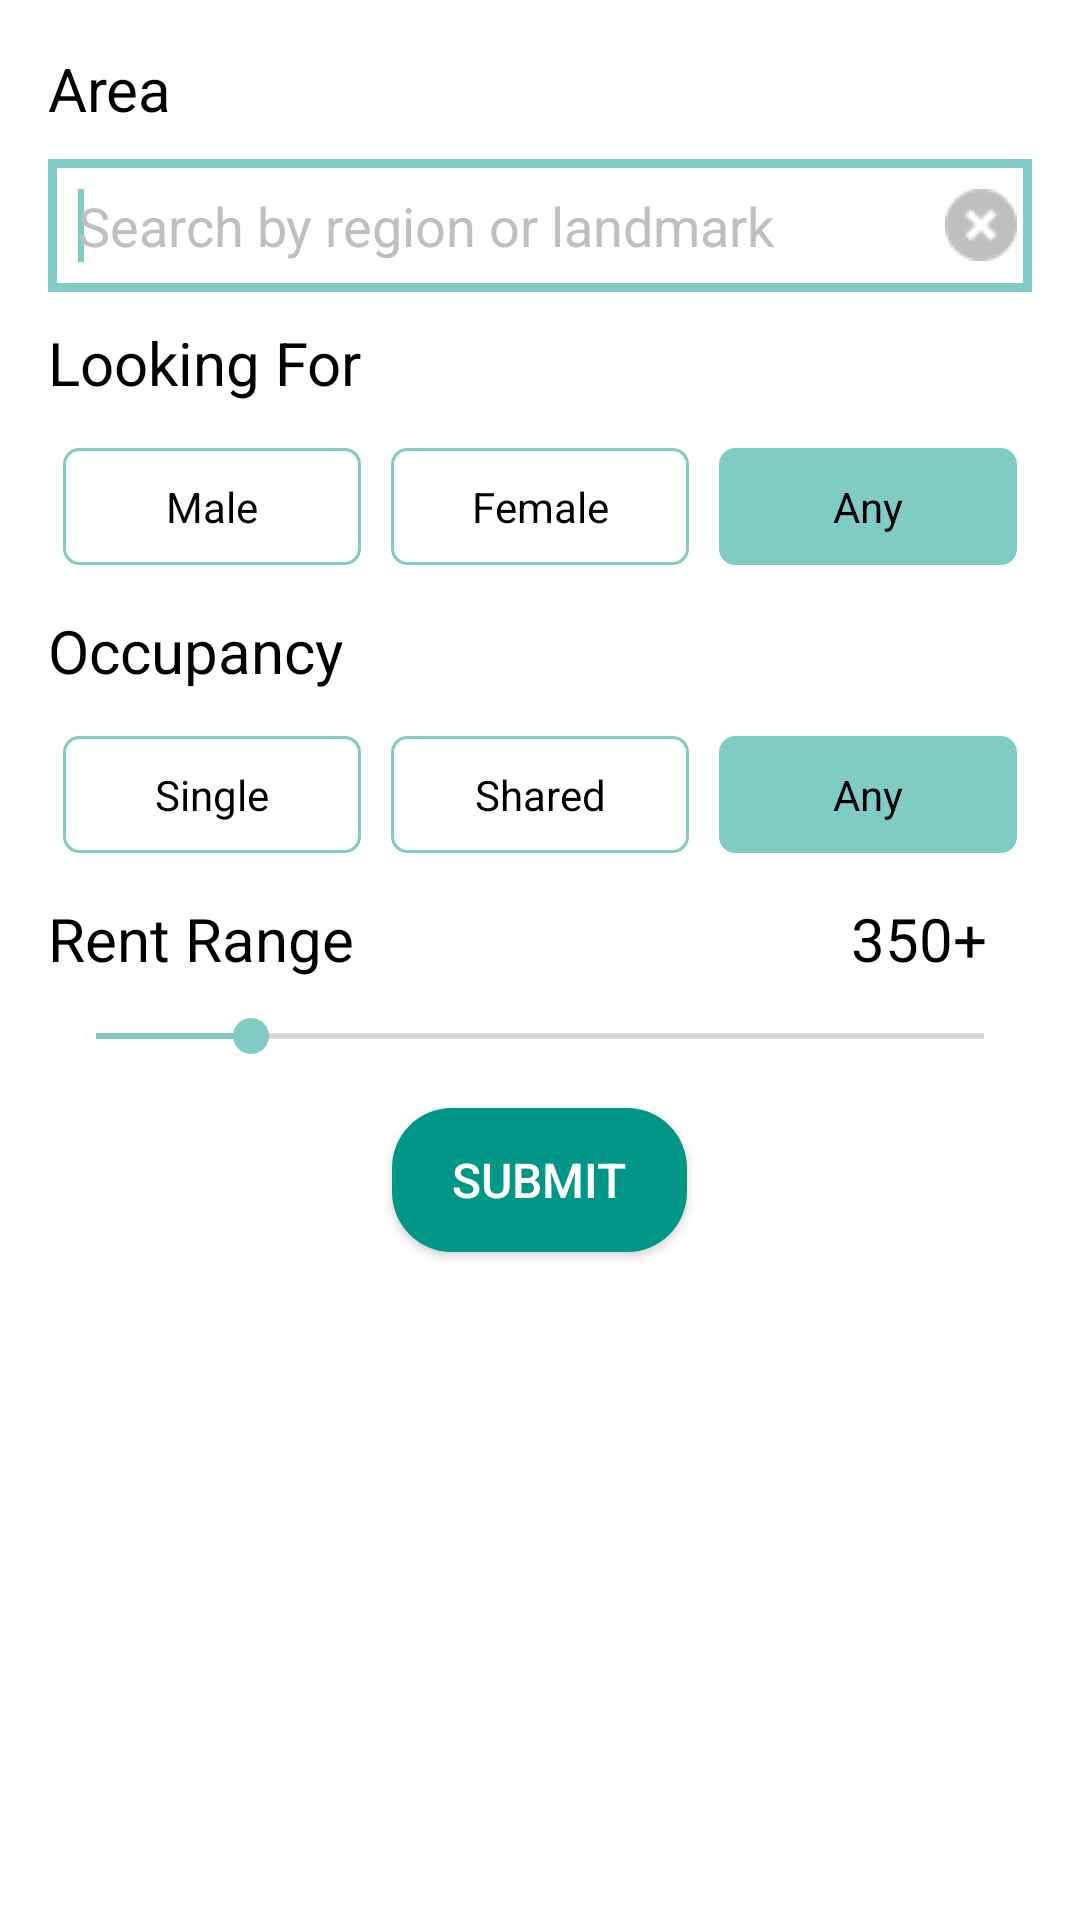

Icons on this 1080px×1920px Android screen, each with its box as [left=x1, top=y1, right=x2, bottom=y2]:
clear: [left=945, top=189, right=1017, bottom=261]
